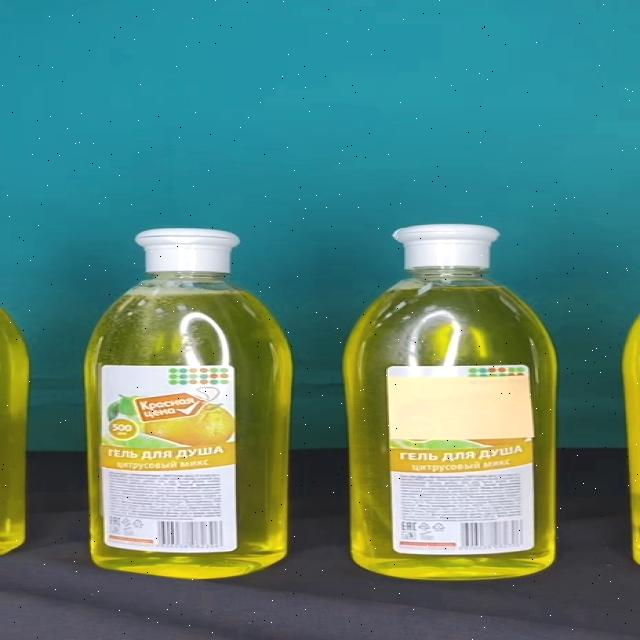Bottle: (342, 224, 558, 580), (83, 229, 294, 579)
Cap: (136, 229, 242, 273), (395, 225, 501, 269)
